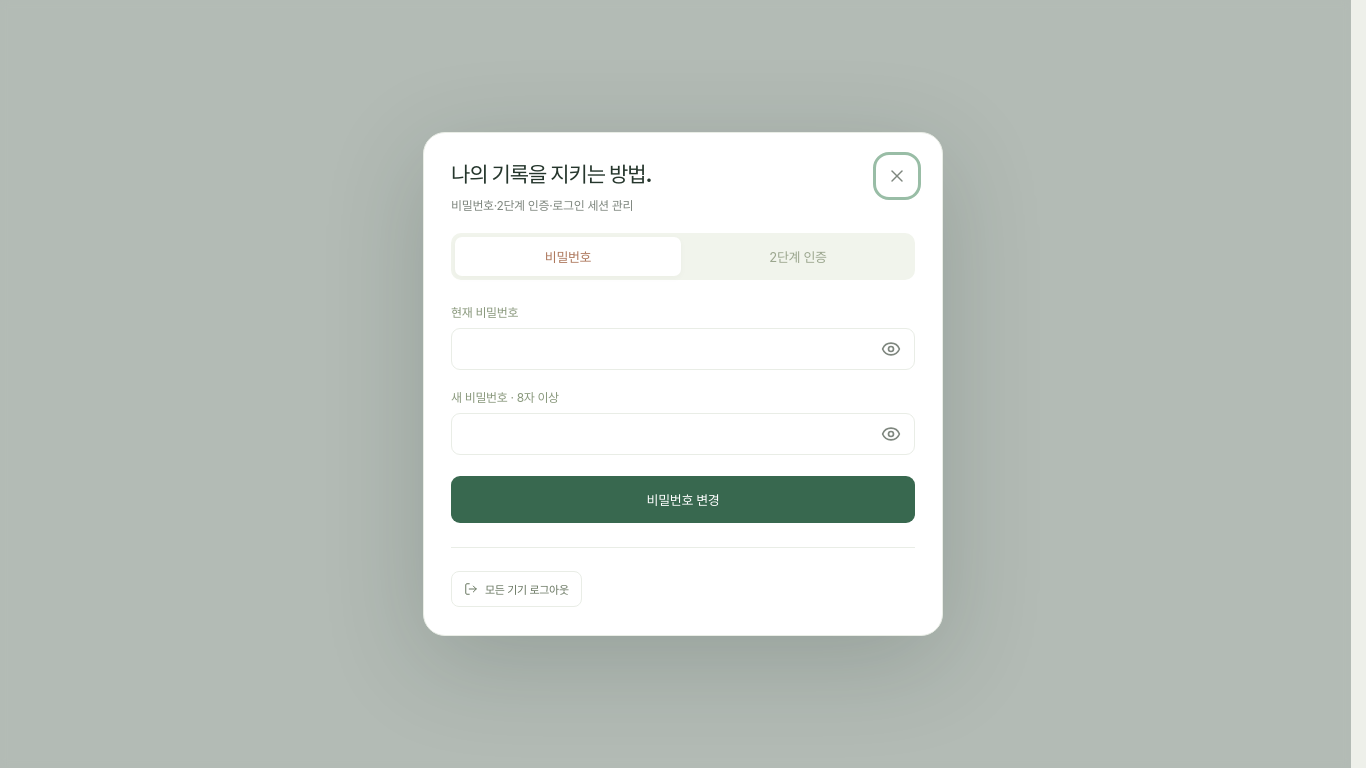
Scenario: 자동완성된 비밀번호로 2단계 인증을 시작한다
This screenshot has width=1366, height=768.
Click the button "2단계 인증".
click(798, 256)  # box [685,237,911,276]
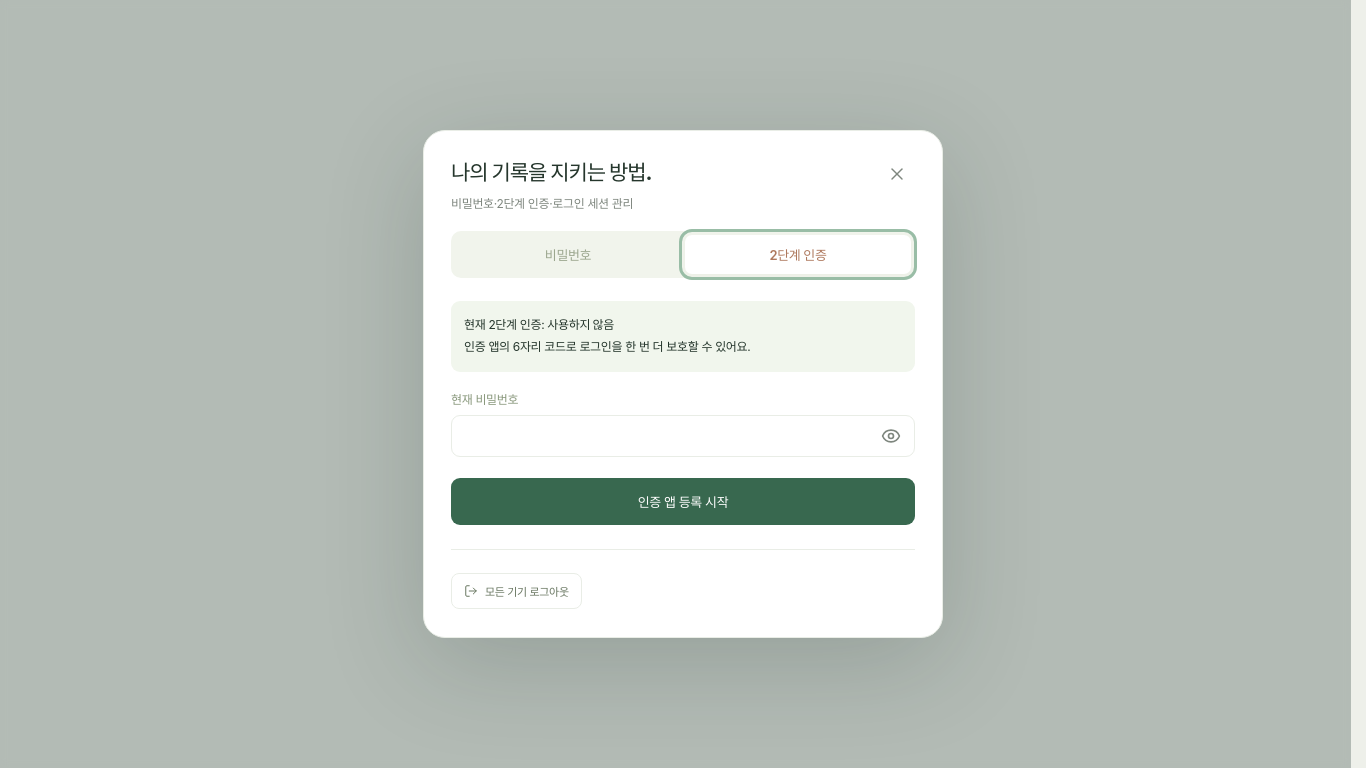
Type "autofilled-current" into the password field labelled "현재 비밀번호".
click(683, 436); type("autofilled-current")  # box [451,415,915,457]
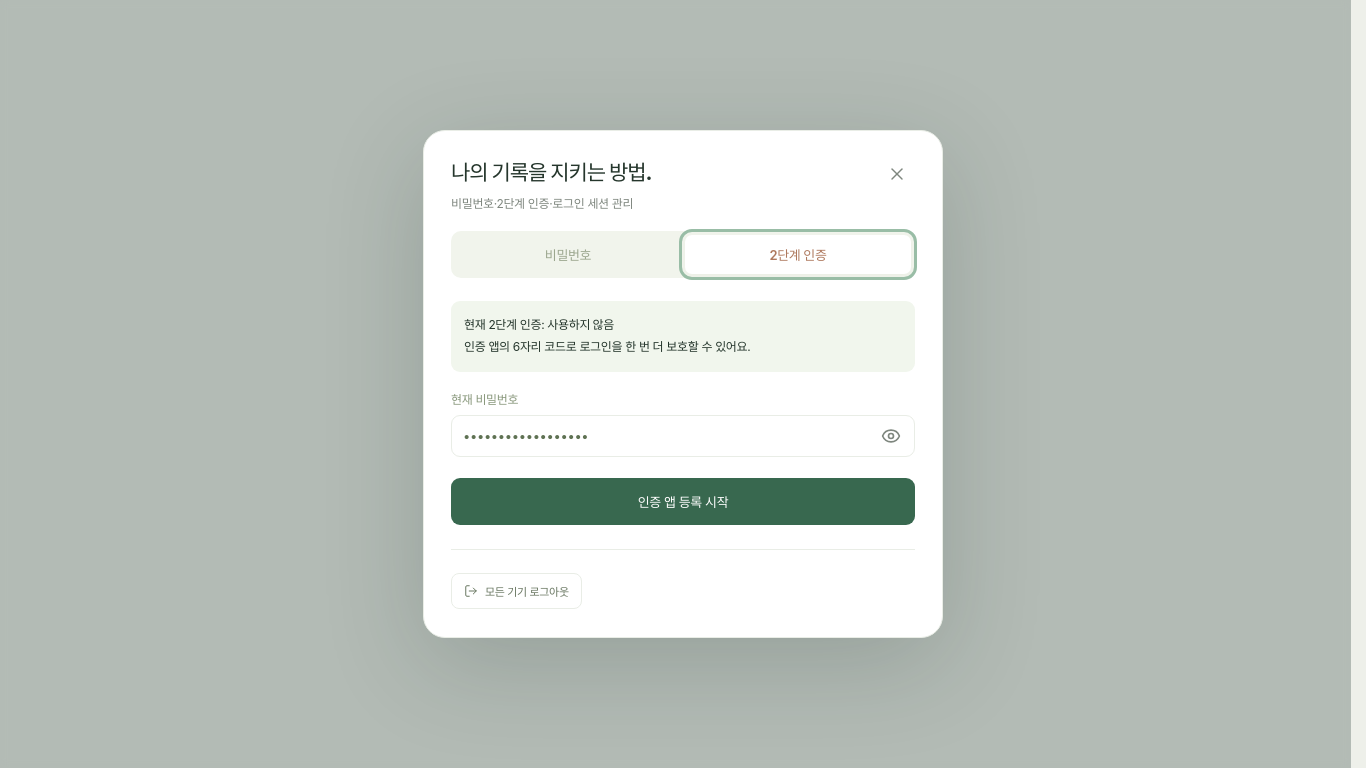
Click the button "인증 앱 등록 시작".
click(683, 502)  # box [451,478,915,525]
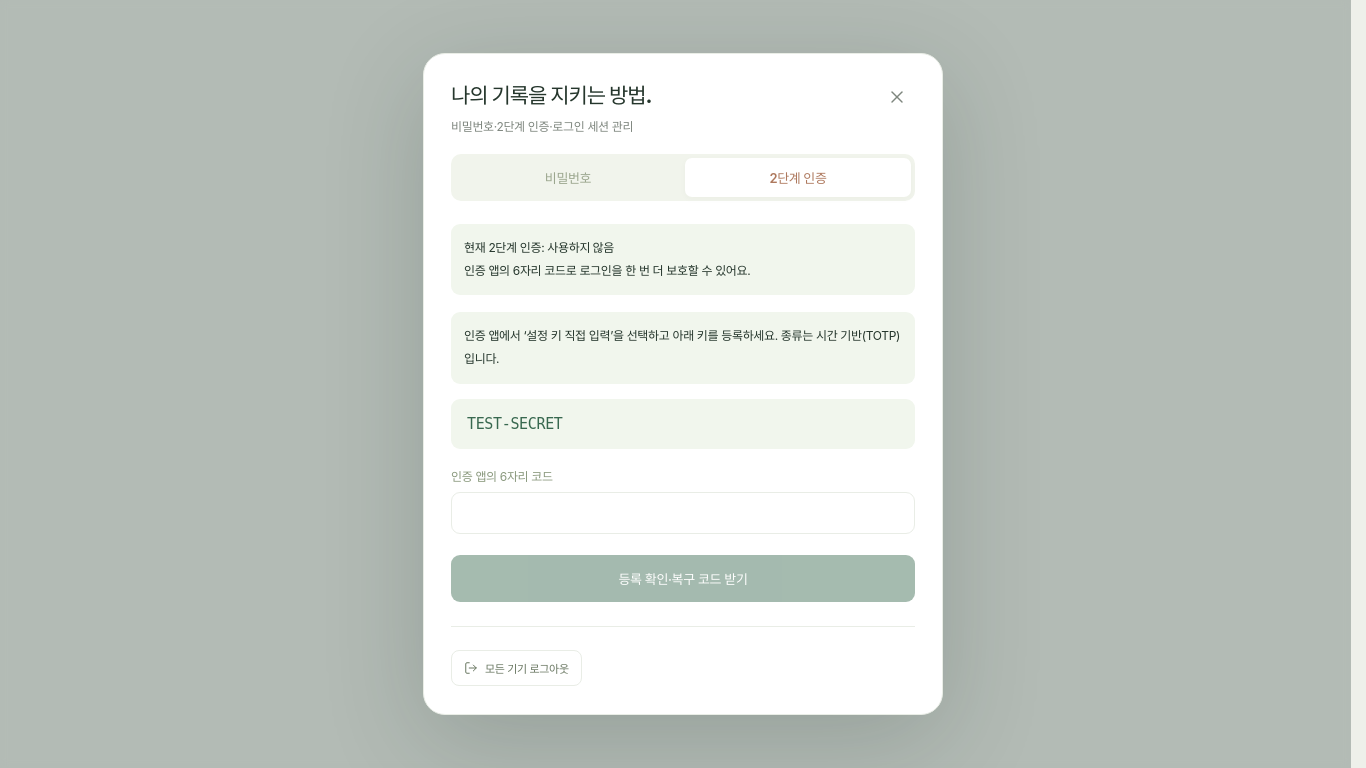
Expected: the text "TEST-SECRET" is shown, [451,399,915,449]
